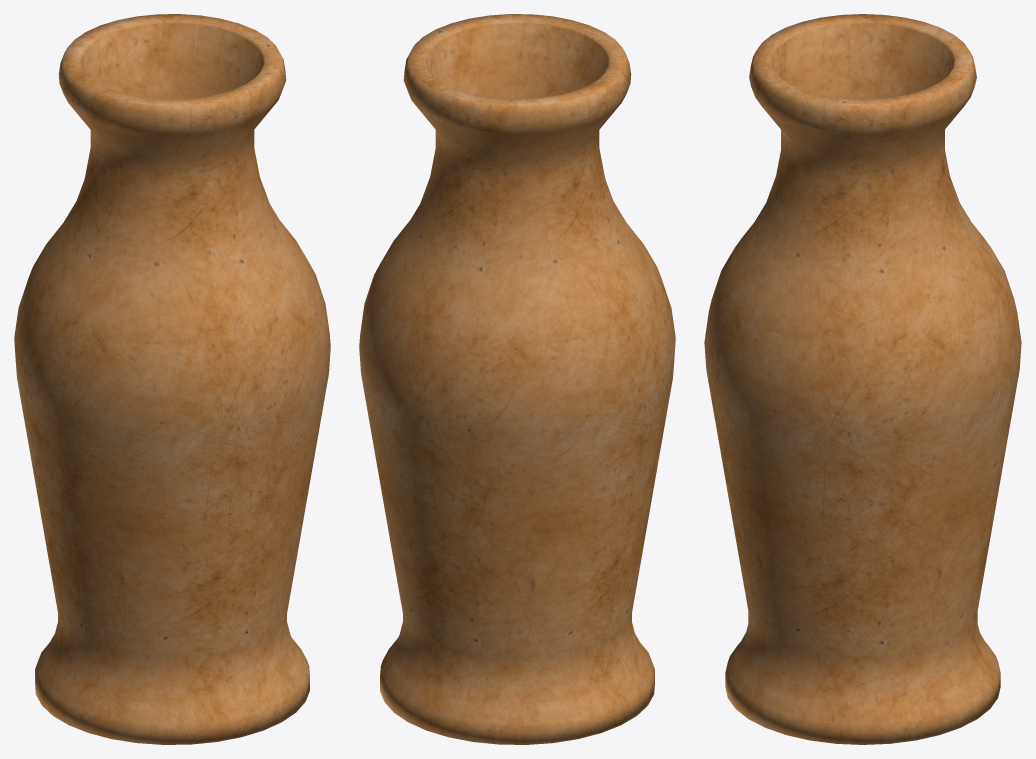
The model's file is relics_01.glb.
The picture shows the model from 3 angles, left to right: view 1: azimuth 30°, elevation 25°; view 2: azimuth 150°, elevation 25°; view 3: azimuth 270°, elevation 25°; orthographic projection.
Visible parts, largest first — view 1: Bottle04_0; view 2: Bottle04_0; view 3: Bottle04_0.
Part boxes in pixels (x1=…): Bottle04_0: x1=14, y1=14, x2=330, y2=744; Bottle04_0: x1=359, y1=14, x2=675, y2=744; Bottle04_0: x1=704, y1=14, x2=1021, y2=744.
Size of the model in its own units: 0.3857 by 0.8409 by 0.3857.
1 material, 1 textured.
